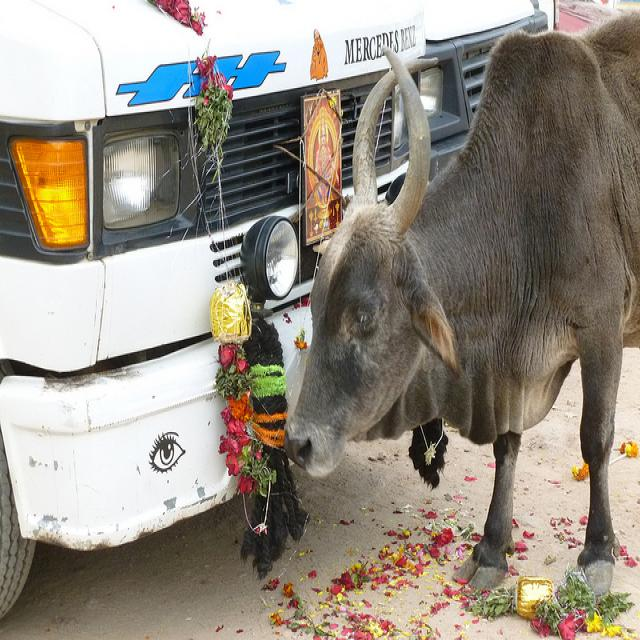Vehicle: (0, 0, 555, 618), (1, 3, 548, 529)
